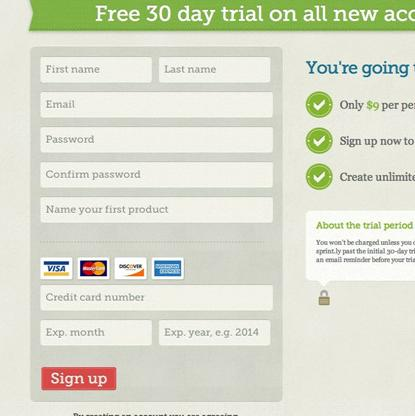button: (41, 366, 117, 391)
field: (39, 90, 274, 119), (39, 195, 274, 224), (39, 284, 275, 312), (39, 125, 274, 153), (39, 161, 273, 189), (39, 318, 153, 347), (39, 55, 152, 84), (157, 56, 270, 84), (157, 319, 272, 346)
